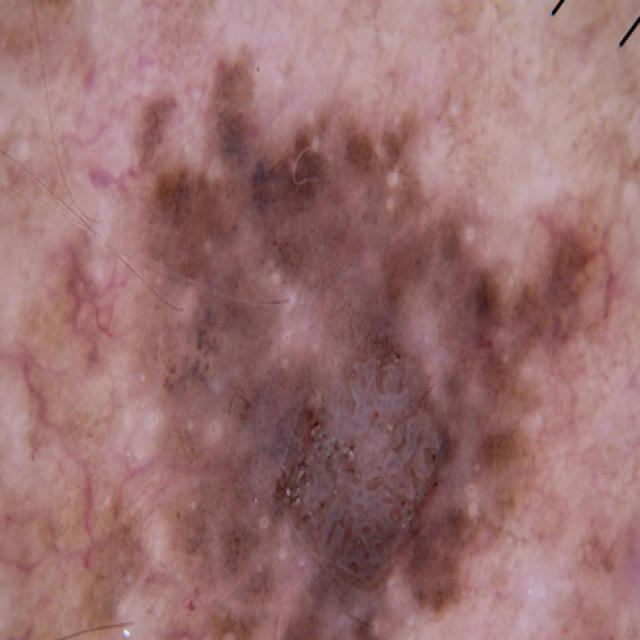Keratosis: (104, 66, 601, 640)
